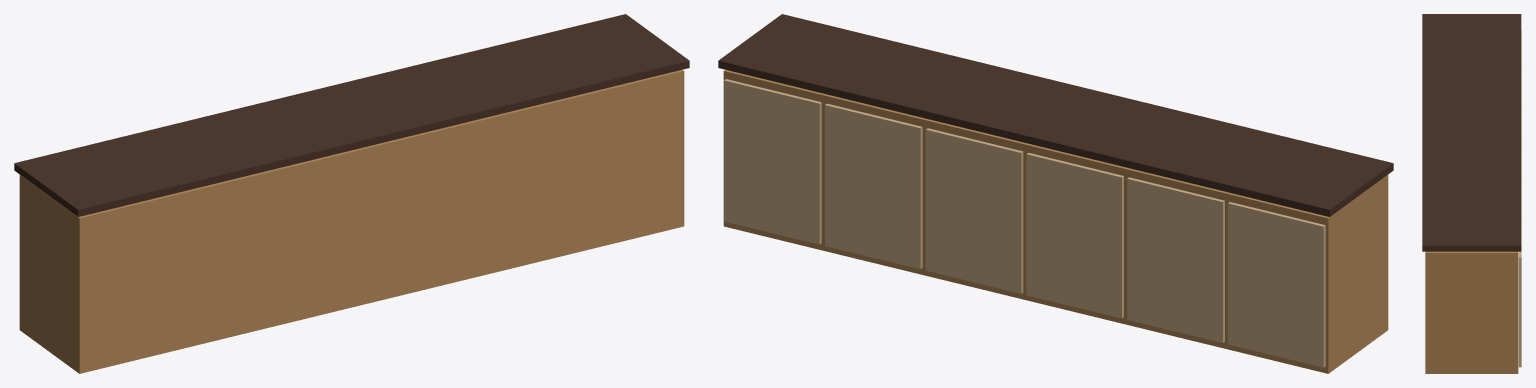
3 renders of one model, left to right at view 1: azimuth 30°, elevation 25°; view 2: azimuth 150°, elevation 25°; view 3: azimuth 270°, elevation 25°, orthographic. The views are drawn at different scales.
Visible parts, largest first — view 1: mueble_cocina; view 2: mueble_cocina; view 3: mueble_cocina.
Boxes of the visible parts, left/top/right/bottom form: mueble_cocina: left=14, top=14, right=689, bottom=373; mueble_cocina: left=718, top=14, right=1393, bottom=373; mueble_cocina: left=1422, top=14, right=1521, bottom=373.
Bounding box in the file's own units: 3.54 × 0.642 × 0.92.
